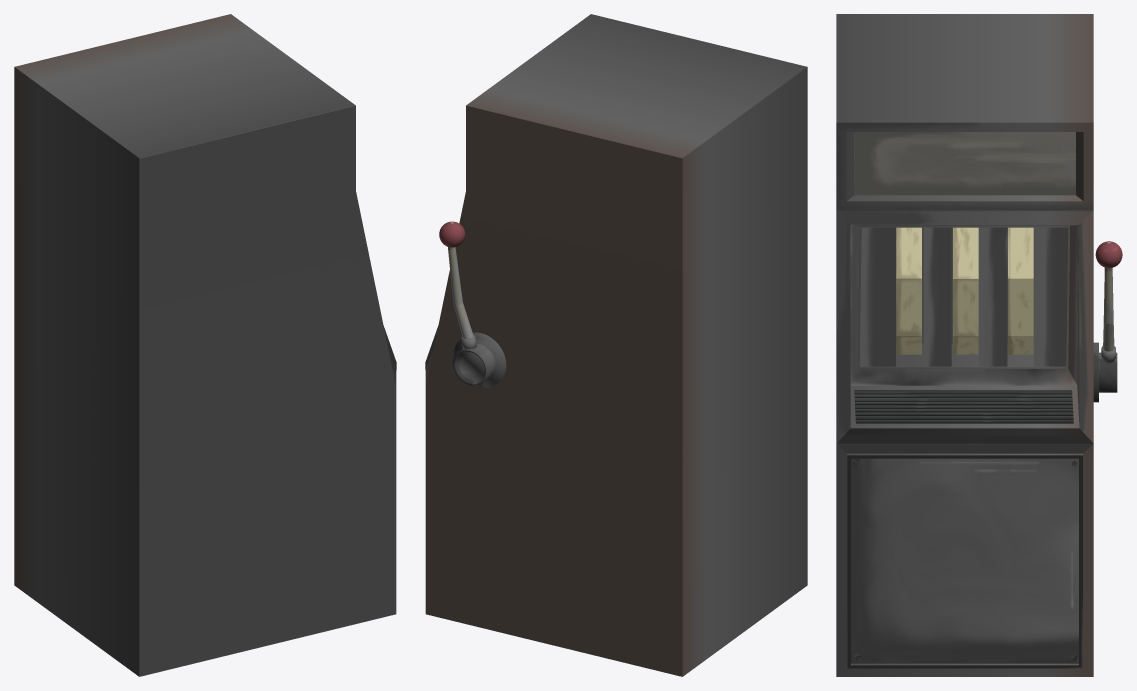
The model's file is Slot_Machine.glb.
3 views of the same model, side by side, from view 1: azimuth 30°, elevation 25°; view 2: azimuth 150°, elevation 25°; view 3: azimuth 270°, elevation 25° (orthographic). The views are drawn at different scales.
Visible parts, largest first — view 1: Slot Machine Box; view 2: Slot Machine Box, Cylinder.001, Cylinder; view 3: Slot Machine Box, Cube.004, Cube.009, Cube.008, Cylinder.007, Cylinder.004, Cylinder.005, Cylinder.001, Cylinder, Sphere.
Part boxes in pixels (box(x1,y1,x2,y2)): Slot Machine Box: box(14, 14, 396, 676); Slot Machine Box: box(425, 14, 807, 676); Cylinder.001: box(453, 332, 506, 388); Cylinder: box(448, 247, 473, 338); Slot Machine Box: box(836, 14, 1093, 676); Cube.004: box(859, 227, 1068, 366); Cube.009: box(854, 132, 1075, 195); Cube.008: box(854, 391, 1073, 423); Cylinder.007: box(896, 227, 921, 354); Cylinder.004: box(953, 227, 978, 354); Cylinder.005: box(1008, 227, 1033, 354); Cylinder.001: box(1093, 342, 1117, 402); Cylinder: box(1103, 267, 1114, 351); Sphere: box(1095, 241, 1122, 268).
Bounding box in the file's own units: 5.72 × 10.74 × 5.22.
Materials: 10 (9 with a texture image).
